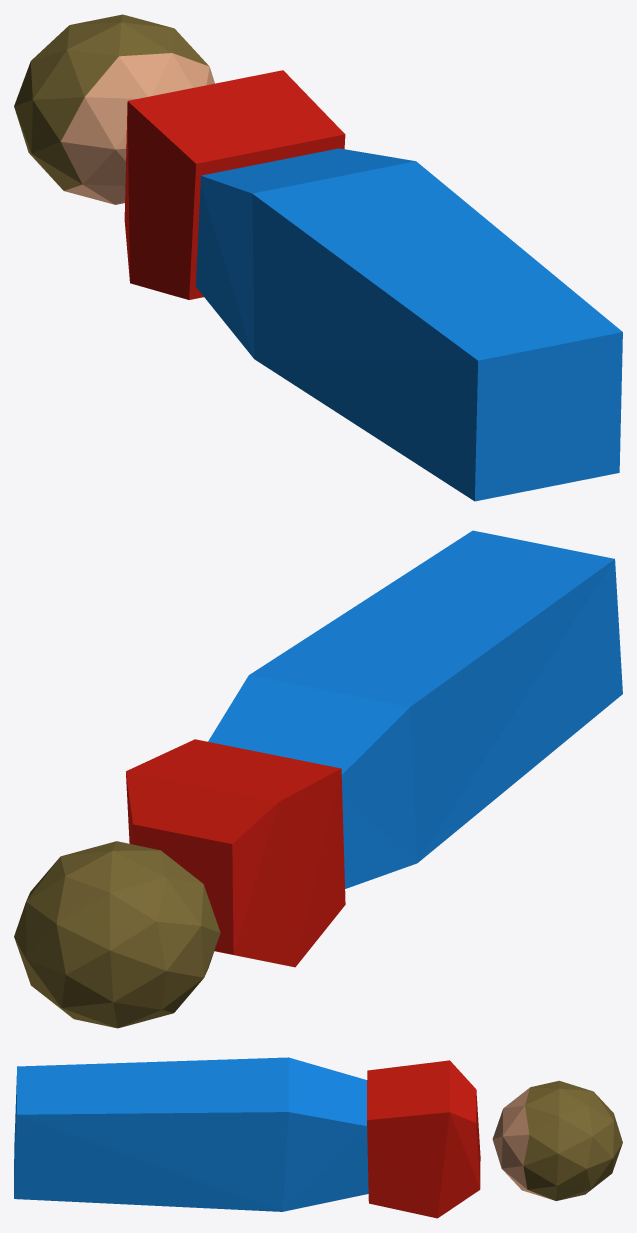
Rendered from ManRed.dae.
3 views of the same model, one above another, from view 1: azimuth 30°, elevation 25°; view 2: azimuth 150°, elevation 25°; view 3: azimuth 270°, elevation 25° (orthographic). The views are drawn at different scales.
Parts seen in each view (by area): view 1: Cube.008; view 2: Cube.008; view 3: Cube.008.
Part boxes in pixels (<box>): Cube.008: <box>14,14,622,501</box>; Cube.008: <box>14,530,622,1028</box>; Cube.008: <box>14,1057,622,1218</box>.
Bounding box in the file's own units: 0.335 × 1.61 × 0.3333.
